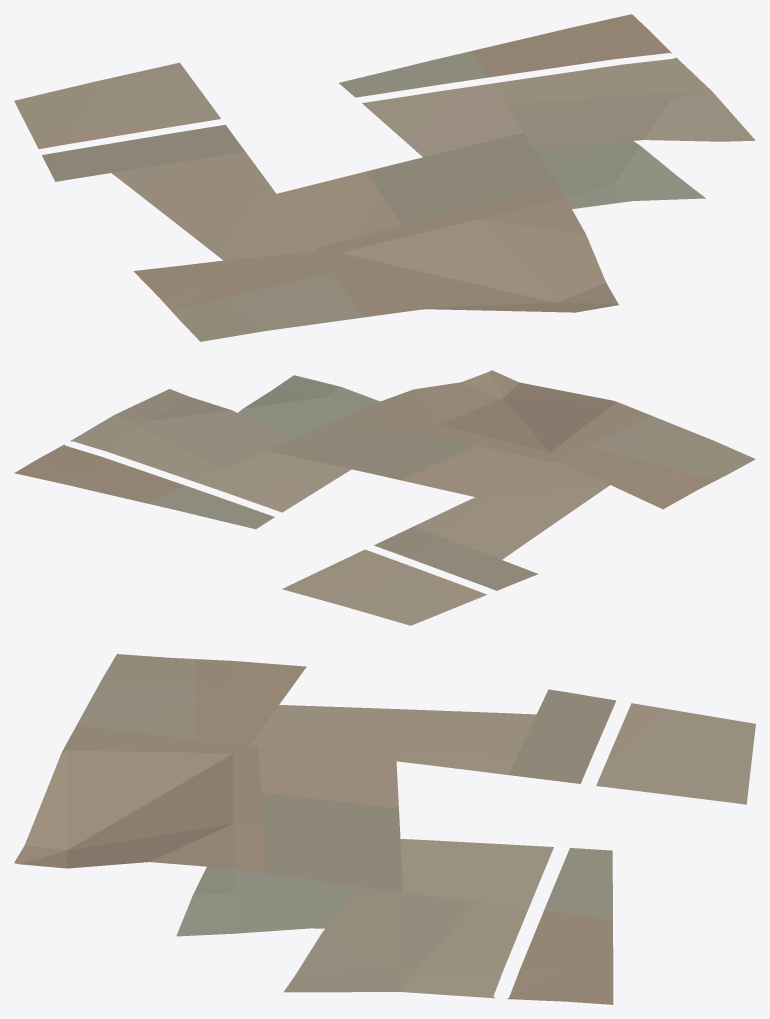
File: farm_12_17_soil.glb
3 views of the same model, one above another, from view 1: azimuth 30°, elevation 25°; view 2: azimuth 150°, elevation 25°; view 3: azimuth 270°, elevation 25° (orthographic). The views are drawn at different scales.
Parts seen in each view (by area): view 1: geometry_0; view 2: geometry_0; view 3: geometry_0.
Part boxes in pixels (x1,y1,x2,y2): geometry_0: [14, 14, 755, 341]; geometry_0: [14, 370, 755, 625]; geometry_0: [14, 654, 755, 1004].
Bounding box in the file's own units: 390 × 15.62 × 357.
